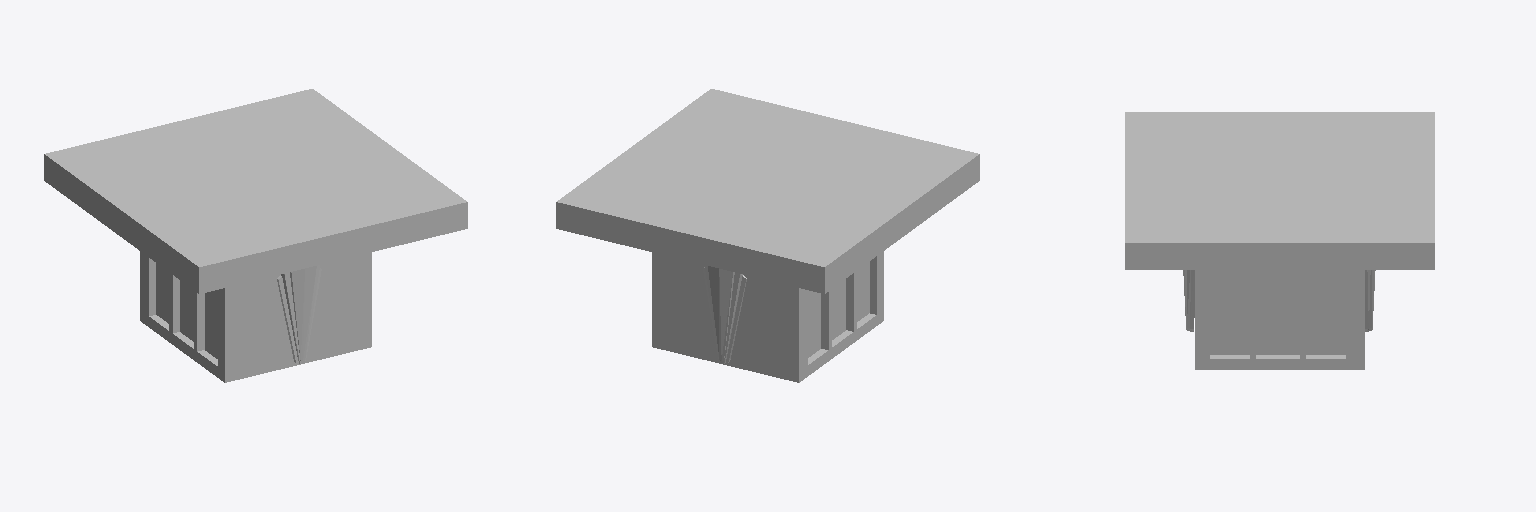
File: bar table.obj
3 views of the same model, side by side, from view 1: azimuth 30°, elevation 25°; view 2: azimuth 150°, elevation 25°; view 3: azimuth 270°, elevation 25° (orthographic).
Parts seen in each view (by area): view 1: pCube1, pasted__pasted__pCube1 pasted__group5 group6, pasted__pCube1 group5, wall_piece_long_pCube1; view 2: pCube1, pasted__pasted__pCube1 pasted__group5 group6, pasted__pCube1 group5, pasted__wall_piece_long_pCube1 group7; view 3: pCube1, pasted__pasted__pCube1 pasted__group5 group6, pasted__pCube1 group5, wall_piece_long_pCube1, pasted__wall_piece_long_pCube1 group7.
Boxes of the visible parts, x1=… form: pCube1: x1=44, y1=89, x2=467, y2=286; pasted__pasted__pCube1 pasted__group5 group6: x1=140, y1=251, x2=371, y2=382; pasted__pCube1 group5: x1=44, y1=173, x2=467, y2=293; wall_piece_long_pCube1: x1=277, y1=265, x2=321, y2=363; pCube1: x1=556, y1=89, x2=979, y2=286; pasted__pasted__pCube1 pasted__group5 group6: x1=652, y1=251, x2=883, y2=382; pasted__pCube1 group5: x1=556, y1=173, x2=979, y2=293; pasted__wall_piece_long_pCube1 group7: x1=703, y1=265, x2=746, y2=363; pCube1: x1=1125, y1=112, x2=1434, y2=262; pasted__pasted__pCube1 pasted__group5 group6: x1=1195, y1=270, x2=1364, y2=369; pasted__pCube1 group5: x1=1125, y1=262, x2=1434, y2=269; wall_piece_long_pCube1: x1=1183, y1=270, x2=1194, y2=331; pasted__wall_piece_long_pCube1 group7: x1=1365, y1=270, x2=1375, y2=331.
Bounding box in the file's own units: 6.62 × 3.68 × 6.62.